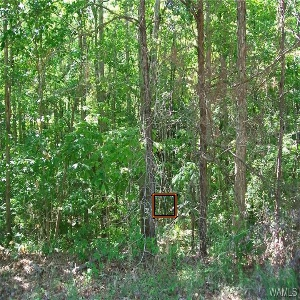square: (149, 191, 180, 220)
